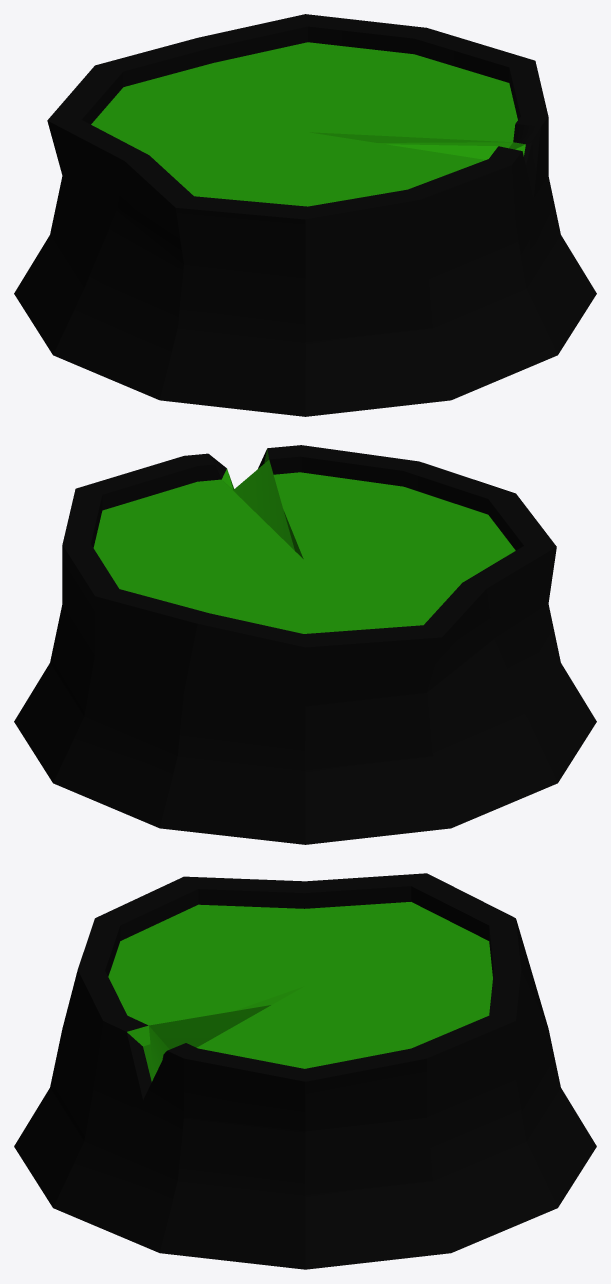
The model's file is TreeStump_KW.fbx.
3 views of the same model, one above another, from view 1: azimuth 30°, elevation 25°; view 2: azimuth 150°, elevation 25°; view 3: azimuth 270°, elevation 25° (orthographic).
Visible parts, largest first — view 1: TreeStump_KW; view 2: TreeStump_KW; view 3: TreeStump_KW.
Part boxes in pixels (x1,y1,x2,y2): TreeStump_KW: [14, 14, 596, 416]; TreeStump_KW: [14, 445, 596, 844]; TreeStump_KW: [14, 873, 596, 1269].
Bounding box in the file's own units: 92.07 × 30.83 × 92.07.
